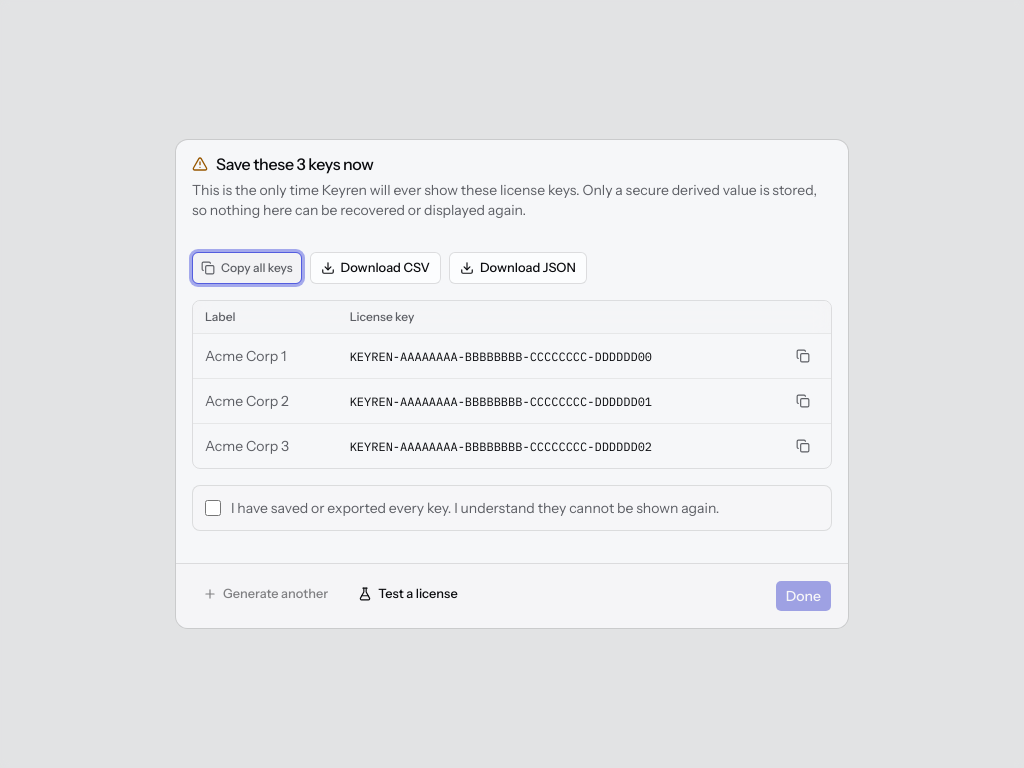
Test case: BatchResultDialog — the acknowledgement gate › re-disables Done if the box is unchecked again
Click the checkbox: (213, 508) [205,500,221,516]
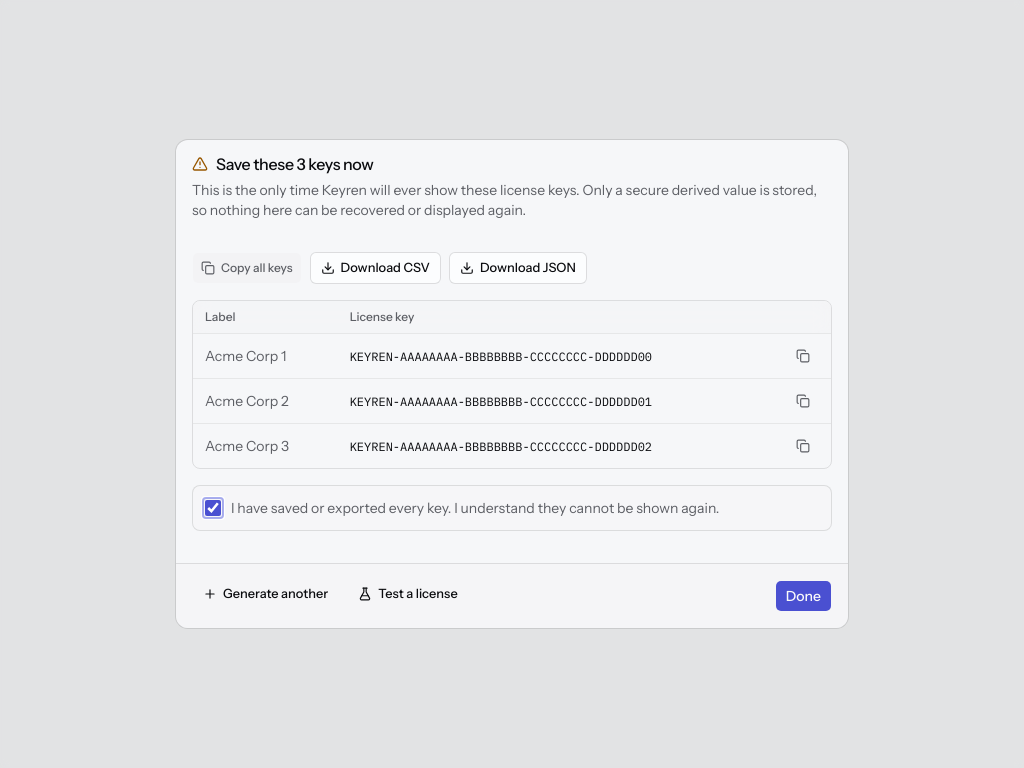
Click the checkbox: (213, 508) [205,500,221,516]
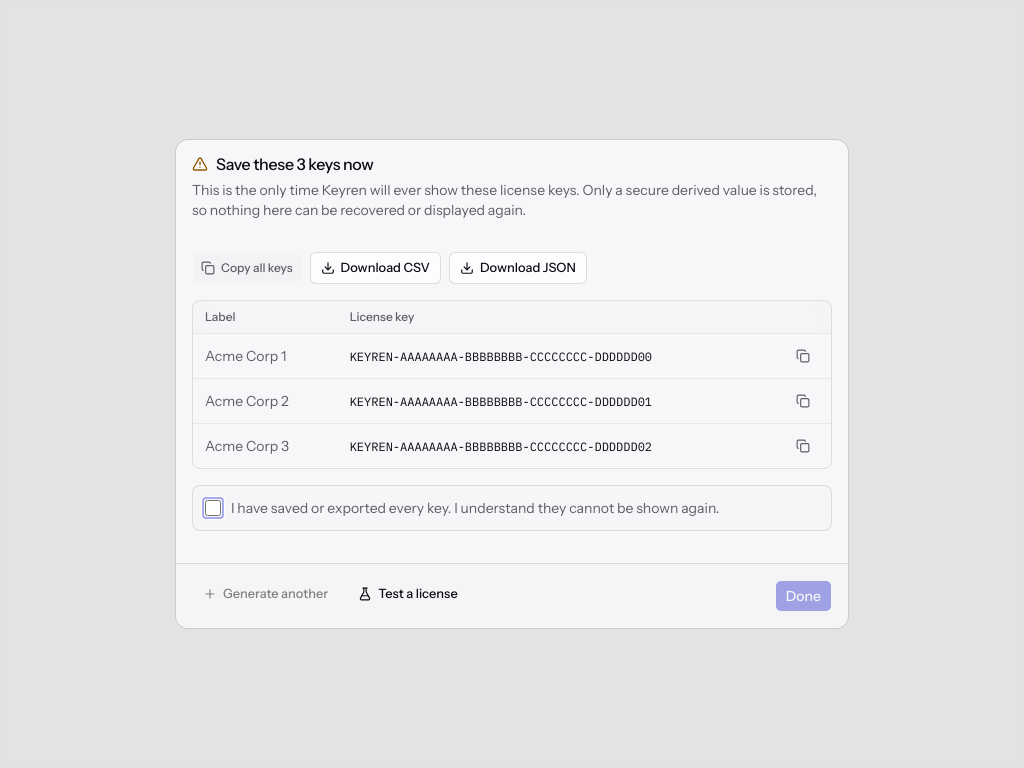
Check: the button "Done" is disabled, box [775,580,832,612]
